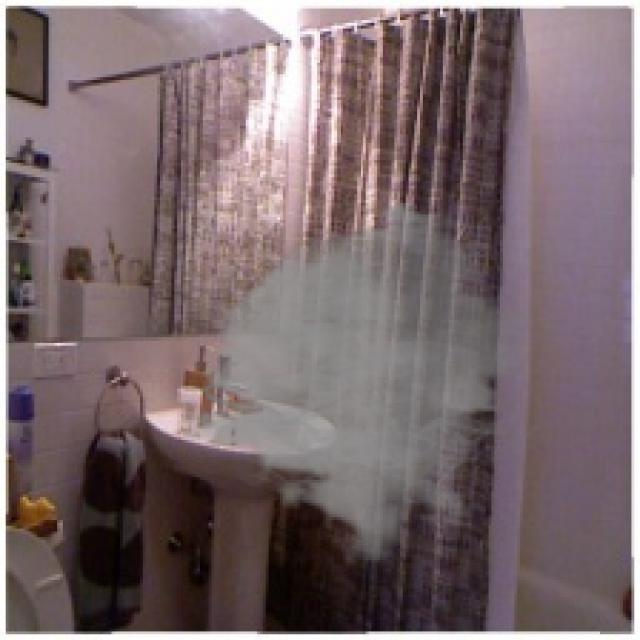Smoke: (166, 200, 563, 566)
